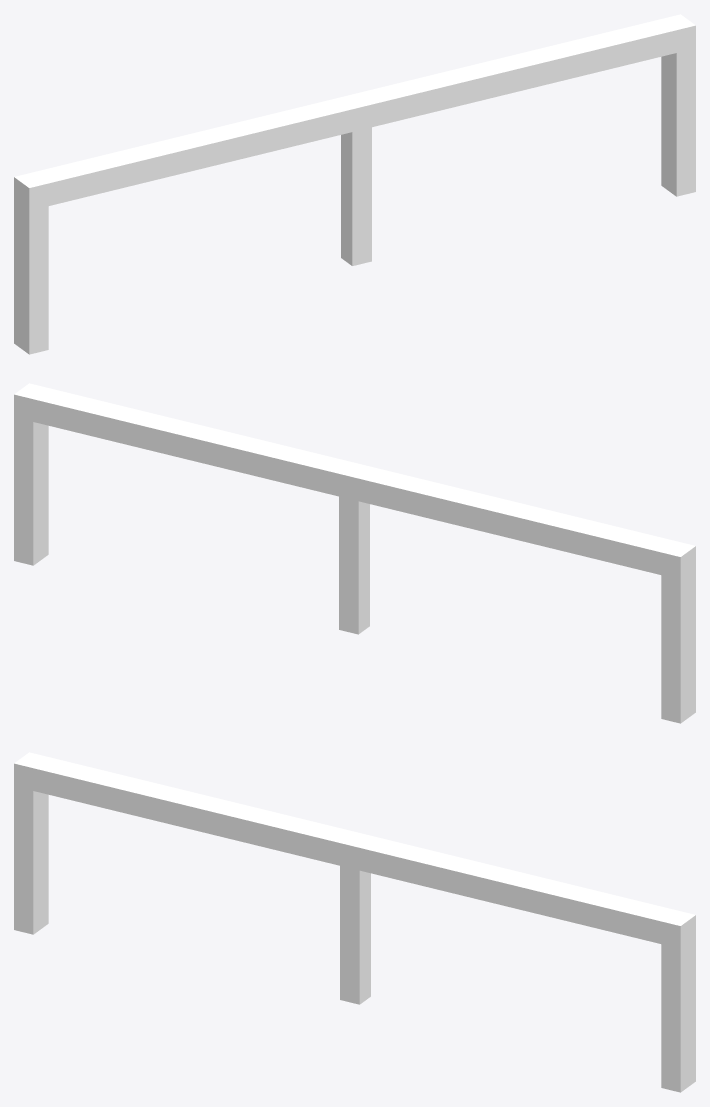
Rendered from rail.003.glb.
3 renders of one model, top to bottom at view 1: azimuth 30°, elevation 25°; view 2: azimuth 150°, elevation 25°; view 3: azimuth 330°, elevation 25°, orthographic.
Parts seen in each view (by area): view 1: rail.003(Clone); view 2: rail.003(Clone); view 3: rail.003(Clone).
Boxes of the visible parts, x1,y1,x2,y2 form: rail.003(Clone): [14, 14, 695, 354]; rail.003(Clone): [14, 383, 695, 723]; rail.003(Clone): [14, 752, 695, 1092].
Bounding box in the file's own units: 2.86 × 0.6835 × 0.1139.
Materials: 1 (1 with a texture image).
